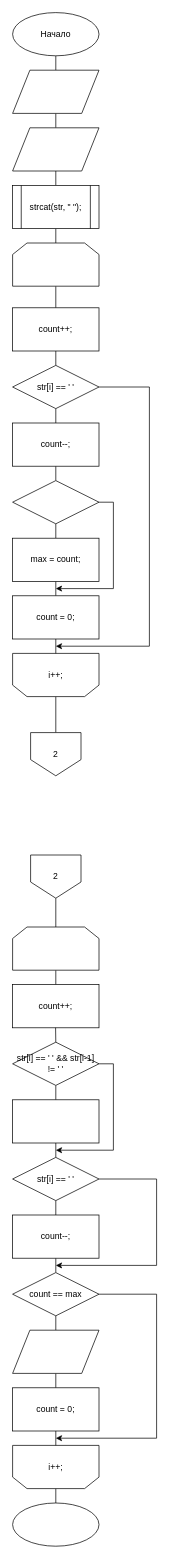
This 175x1559 diagram has some shape labels left out. The box of each missing label's shape, as (x1, y1, x2, y2) in pixels:
char str[80]; gets(str);: (12, 69, 99, 113)
count > max: (12, 480, 99, 524)
cout << str;: (12, 127, 99, 171)
cout << words cout << i + 1 - max << endl;: (12, 1329, 99, 1373)
int i = 0; i < strlen(str); count = 0;: (12, 926, 99, 970)
int i=0, count=0; i < strlen(str);: (12, 242, 99, 286)
words++;: (12, 1099, 99, 1143)
Конец: (12, 1502, 99, 1546)
